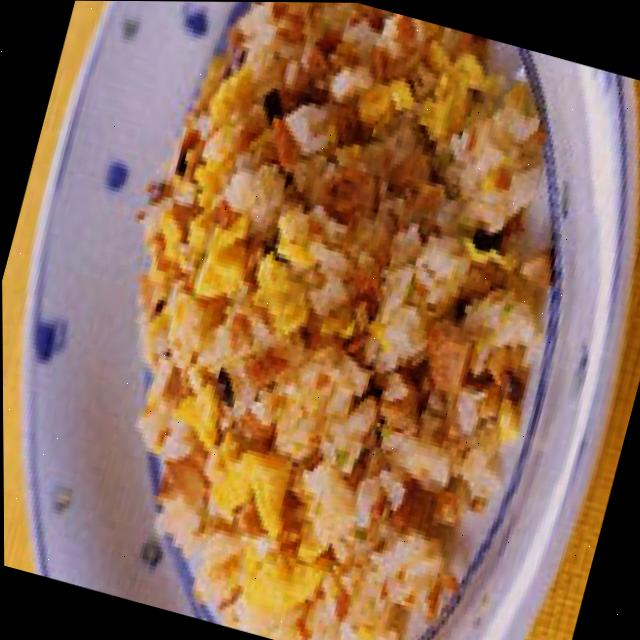米饭主食: (15, 0, 625, 640)
